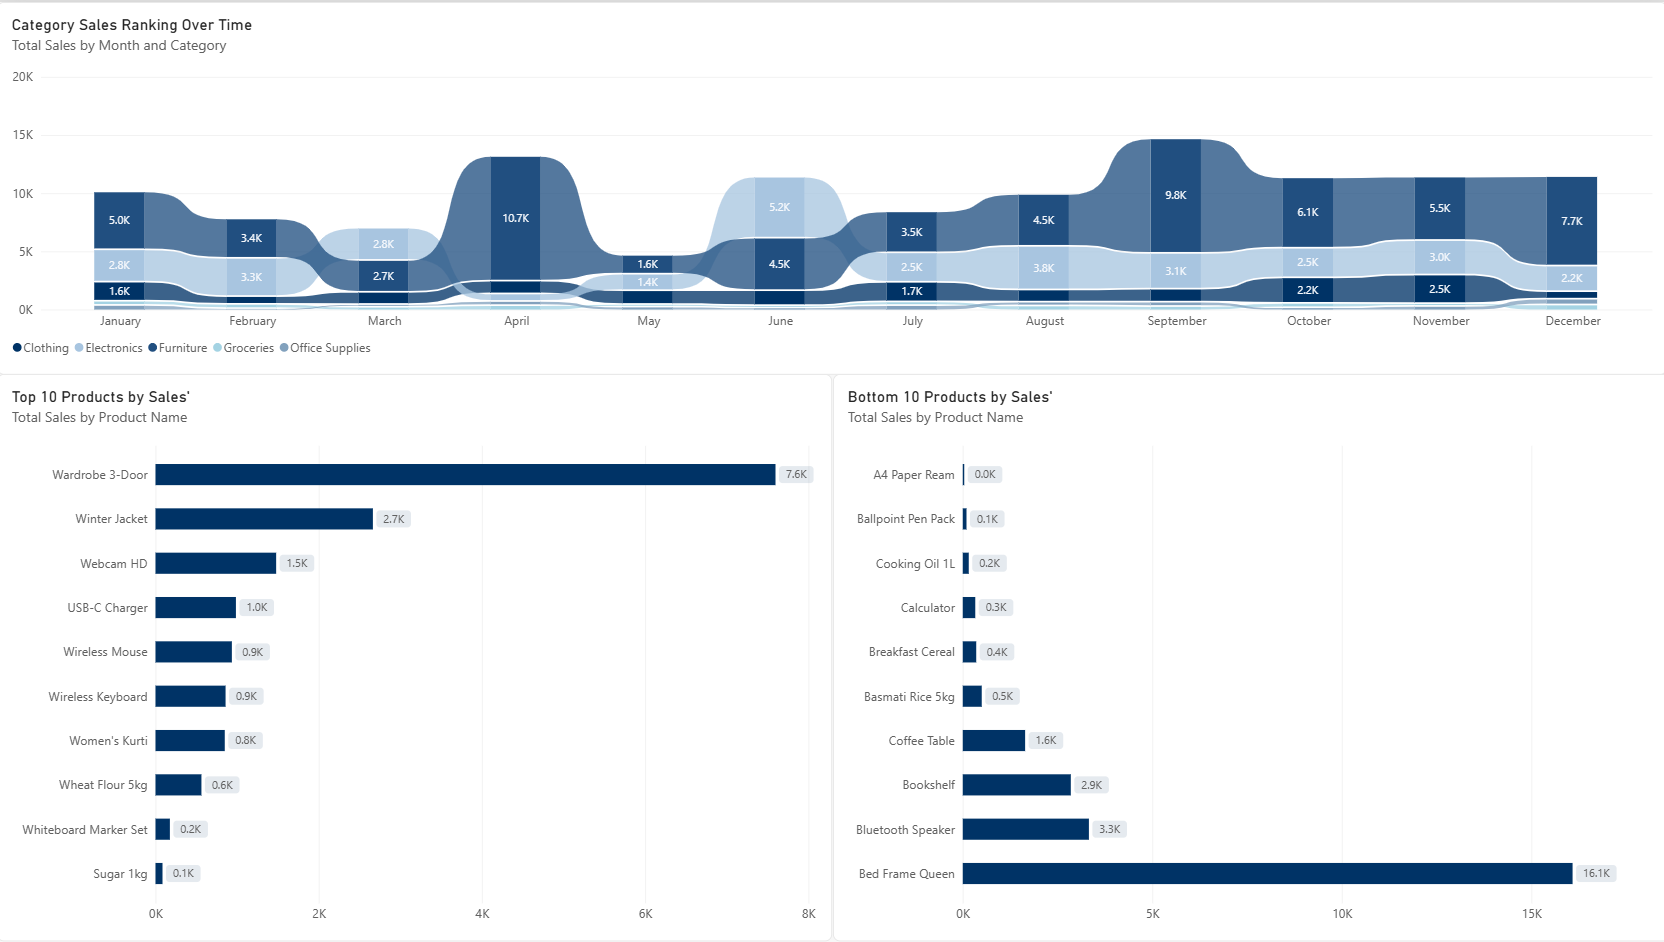

The dashboard page shown, as its layout file describes it:
{"tool":"powerbi","page":{"name":"Product Analysis","canvas":[1920,1080],"ordinal":2},"visuals":[{"type":"clusteredBarChart","title":"Top 10 Products by Sales''","fields":{"Category":["Product_Table.Product Name"],"Y":["Product_Table.Total Sales"]},"box":[0,428.2,959,651.3],"z":0},{"type":"clusteredBarChart","title":"Bottom 10 Products by Sales''","fields":{"Category":["Product_Table.Product Name"],"Y":["Product_Table.Total Sales"]},"box":[959,428.2,961.5,651.3],"z":1000},{"type":"ribbonChart","title":"Category Sales Ranking Over Time","fields":{"Category":["Sales_Table.Order Date.Variation.Date Hierarchy.Month"],"Series":["Product_Table.Category"],"Y":["Product_Table.Total Sales"]},"box":[0,0,1917.9,428.2],"z":2000}]}

Visuals, with their boxes in screenshot pixels (x1, y1, x2, y2), scaled from the page's 1920x1080 canvas onto the 1664x942 screenshot:
"Top 10 Products by Sales''" clusteredBarChart: bbox=[0, 373, 831, 941]
"Bottom 10 Products by Sales''" clusteredBarChart: bbox=[831, 373, 1663, 941]
"Category Sales Ranking Over Time" ribbonChart: bbox=[0, 0, 1662, 373]
